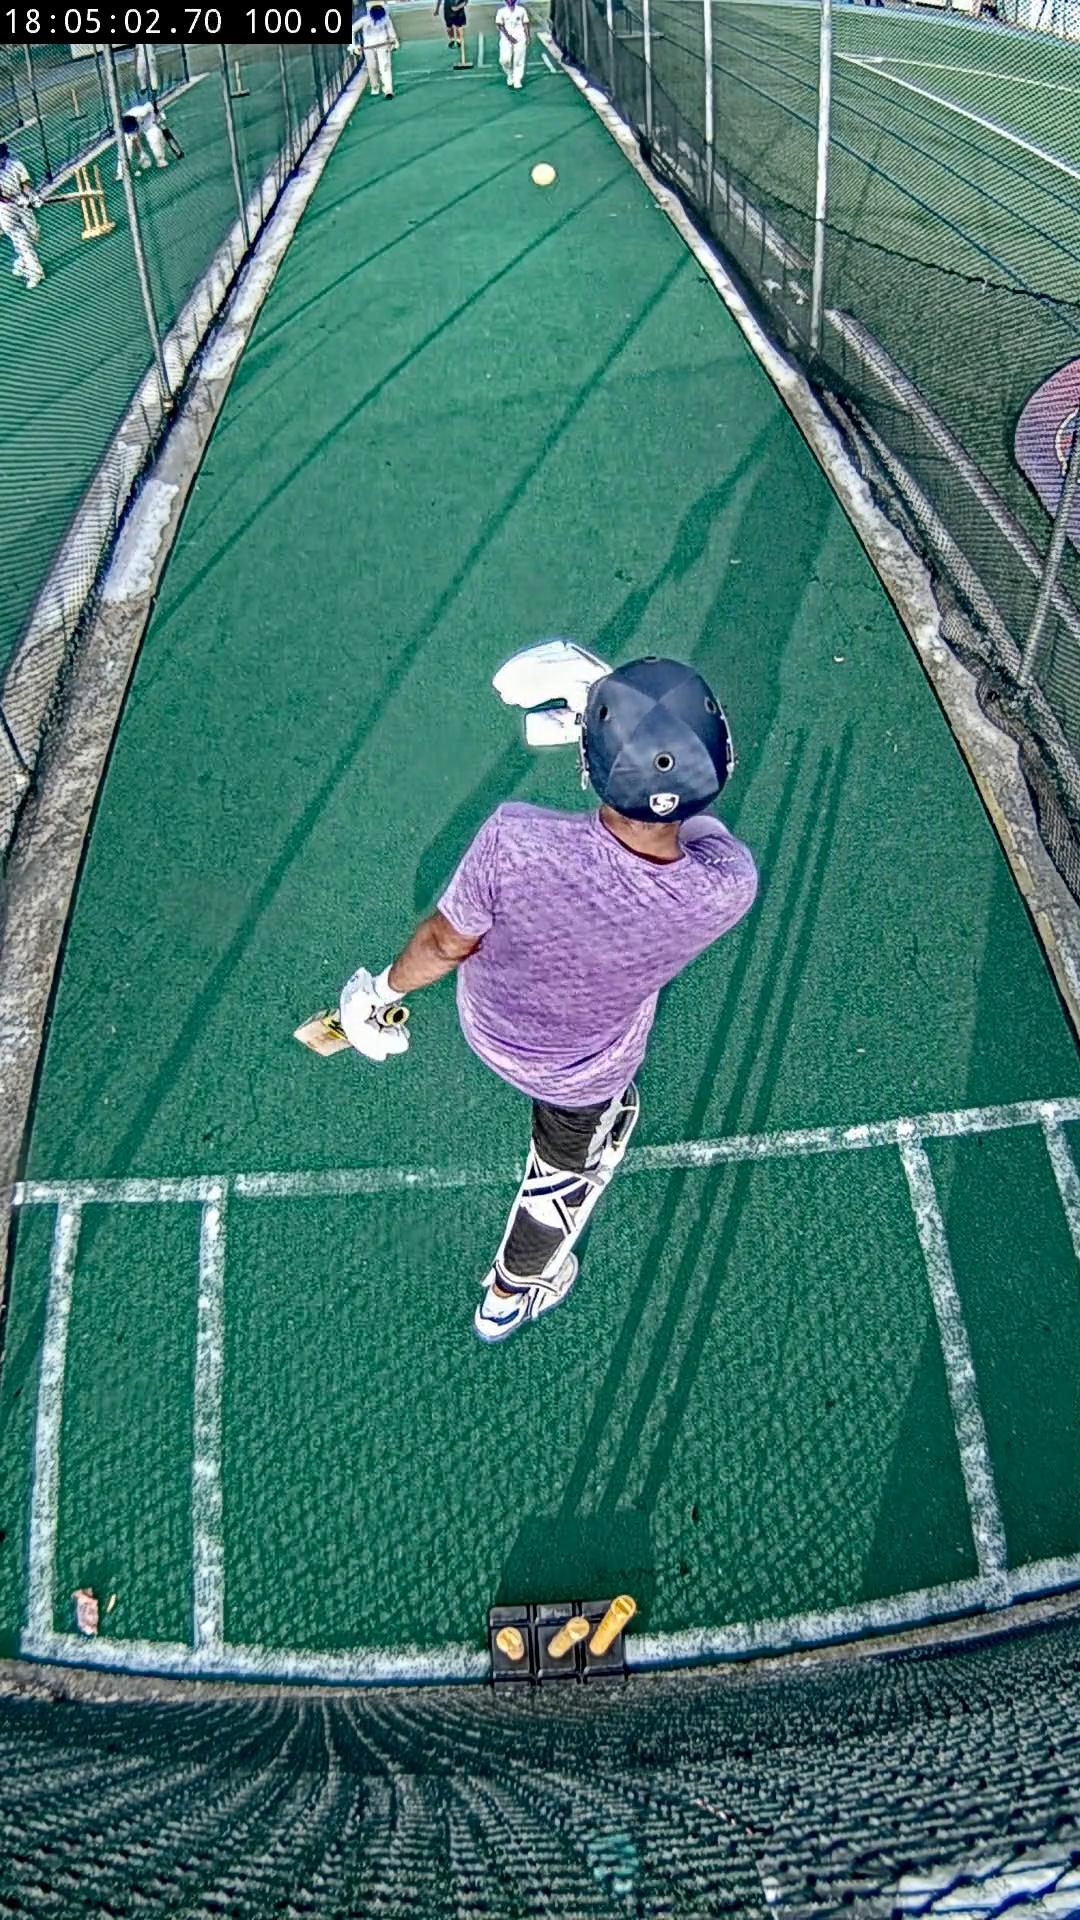ball: (533, 161, 555, 187)
bat: (293, 1009, 348, 1058)
gloves: (492, 637, 612, 746), (338, 968, 409, 1062)
helmet: (582, 657, 732, 822)
stumps: (488, 1594, 637, 1684)
